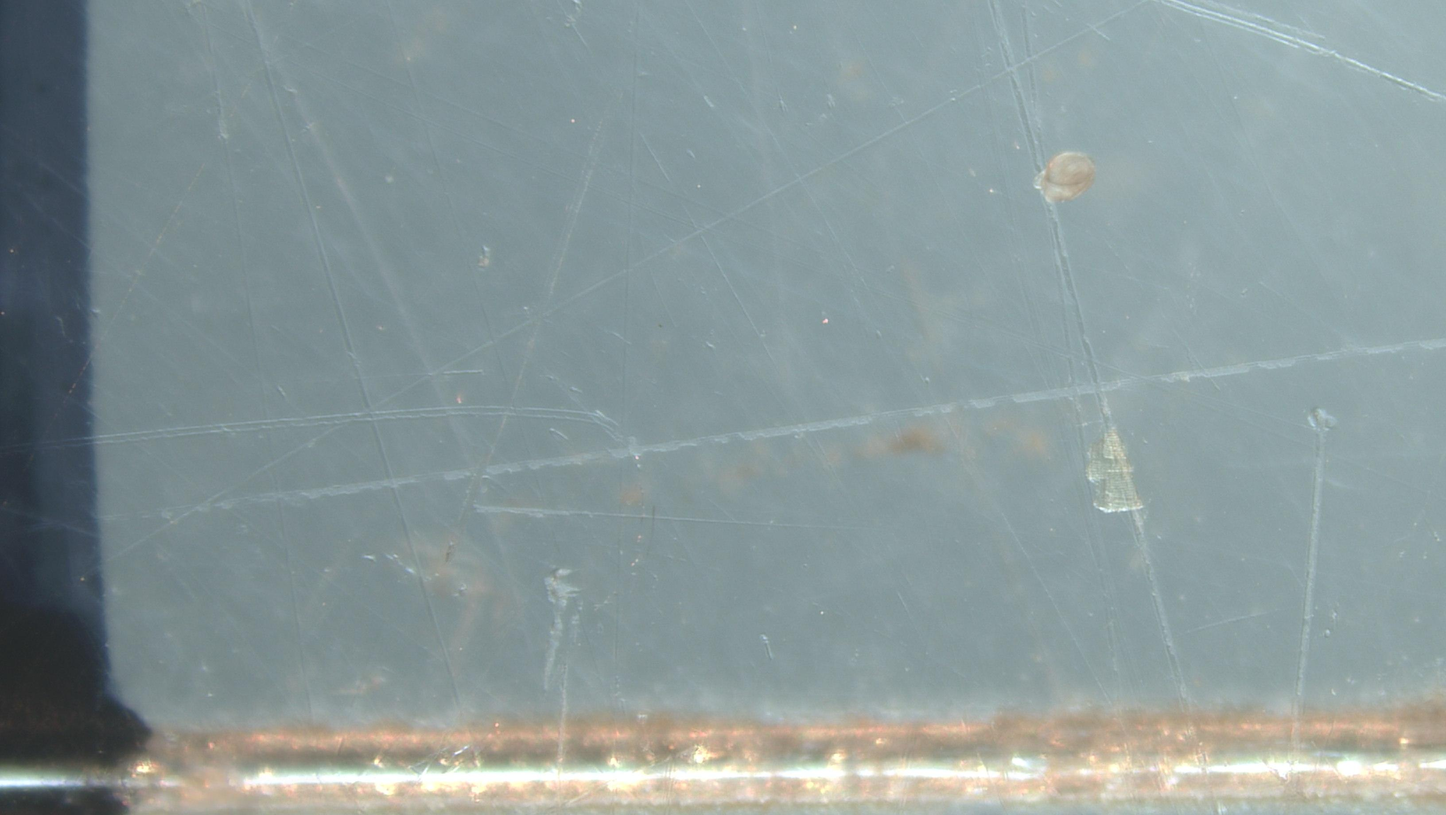live: (1034, 152, 1095, 202)
